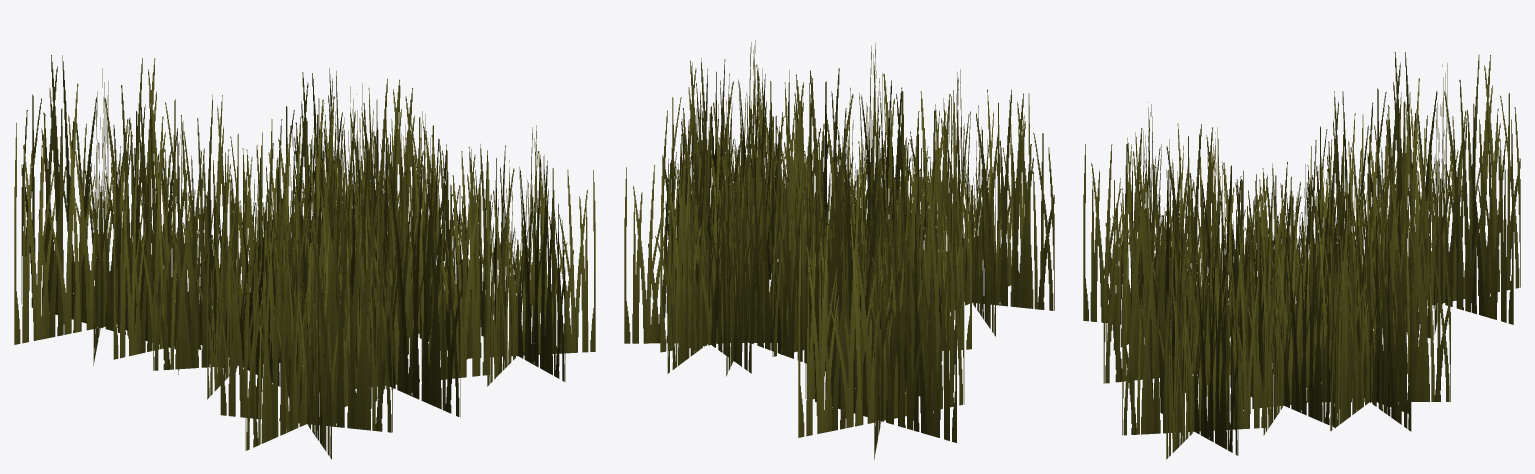
Rendered from grass-wild.glb.
3 views of the same model, side by side, from view 1: azimuth 30°, elevation 25°; view 2: azimuth 150°, elevation 25°; view 3: azimuth 270°, elevation 25° (orthographic). The views are drawn at different scales.
Parts seen in each view (by area): view 1: grass-wild-blades; view 2: grass-wild-blades; view 3: grass-wild-blades.
Boxes of the visible parts, <box> form: grass-wild-blades: <box>14,55,595,459</box>; grass-wild-blades: <box>624,40,1054,459</box>; grass-wild-blades: <box>1083,52,1520,459</box>.
Size of the model in its own units: 1.26 by 0.768 by 1.21.
1 material, 1 textured.
